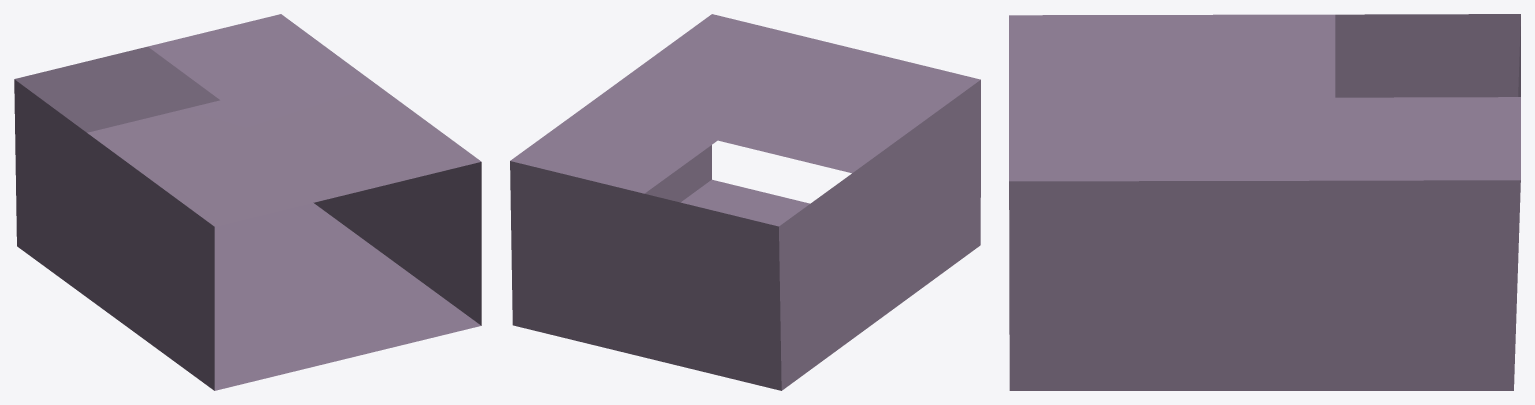
File: Engine.fbx
The picture shows the model from 3 angles, left to right: view 1: azimuth 30°, elevation 25°; view 2: azimuth 150°, elevation 25°; view 3: azimuth 270°, elevation 25°; orthographic projection. The views are drawn at different scales.
Visible parts, largest first — view 1: EngineRoom; view 2: EngineRoom; view 3: EngineRoom.
Part boxes in pixels (x1,y1,x2,y2): EngineRoom: (14,14,481,390); EngineRoom: (510,14,980,390); EngineRoom: (1009,14,1520,390).
Bounding box in the file's own units: 422 × 250 × 549.
